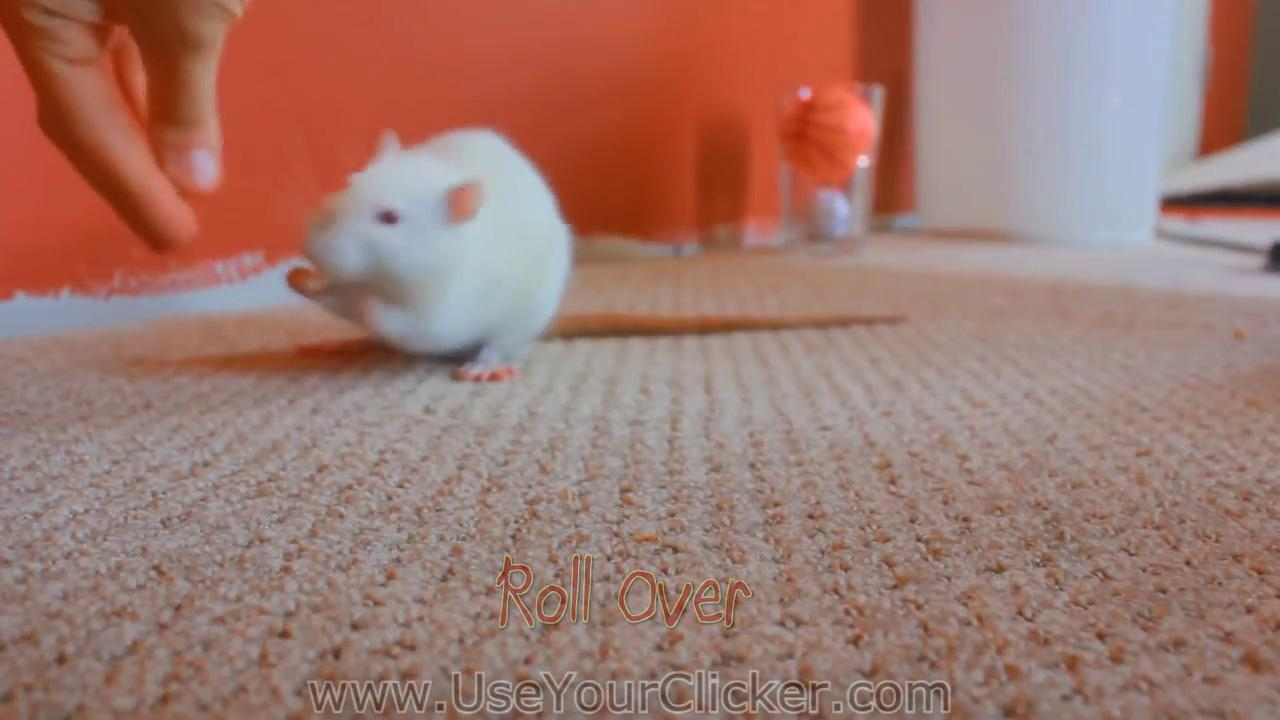rat: (286, 126, 908, 382)
